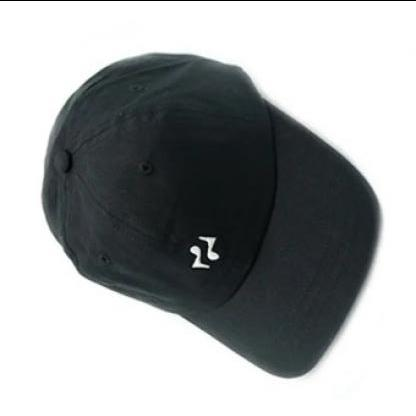cap: (34, 44, 382, 388)
